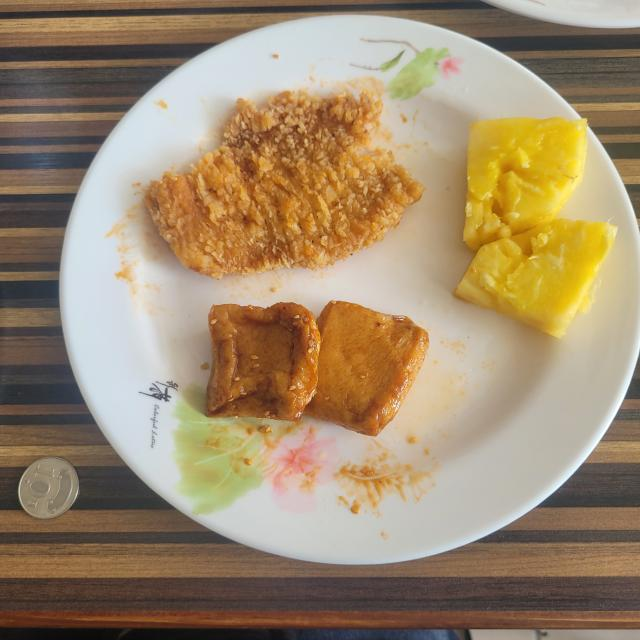coin: (18, 458, 79, 519)
creamy tofu: (206, 301, 429, 436)
fried chicken cutlet: (144, 91, 424, 279)
pineapple: (455, 118, 618, 338)
